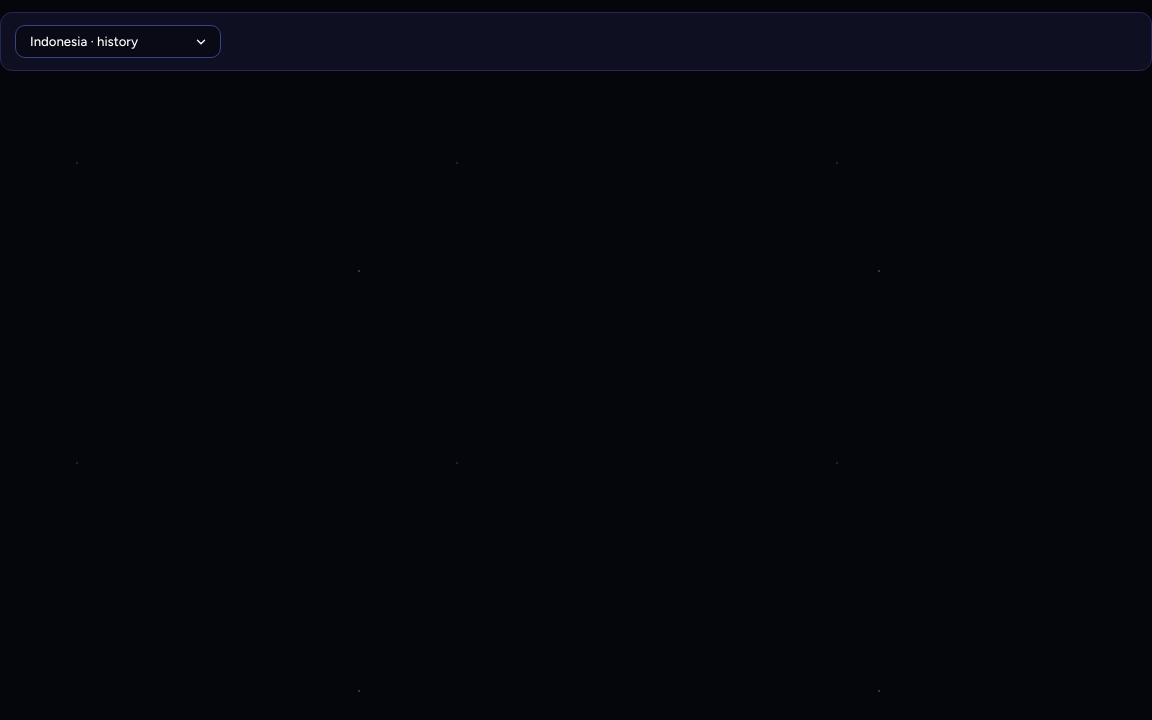
TimeControls › switches to the real global window and prevents unavailable corrections and dates
Select "Worldwide · last 3 months" in the dropdown named "Data coverage" at (118, 42), box x1=15 y1=25 x2=221 y2=58
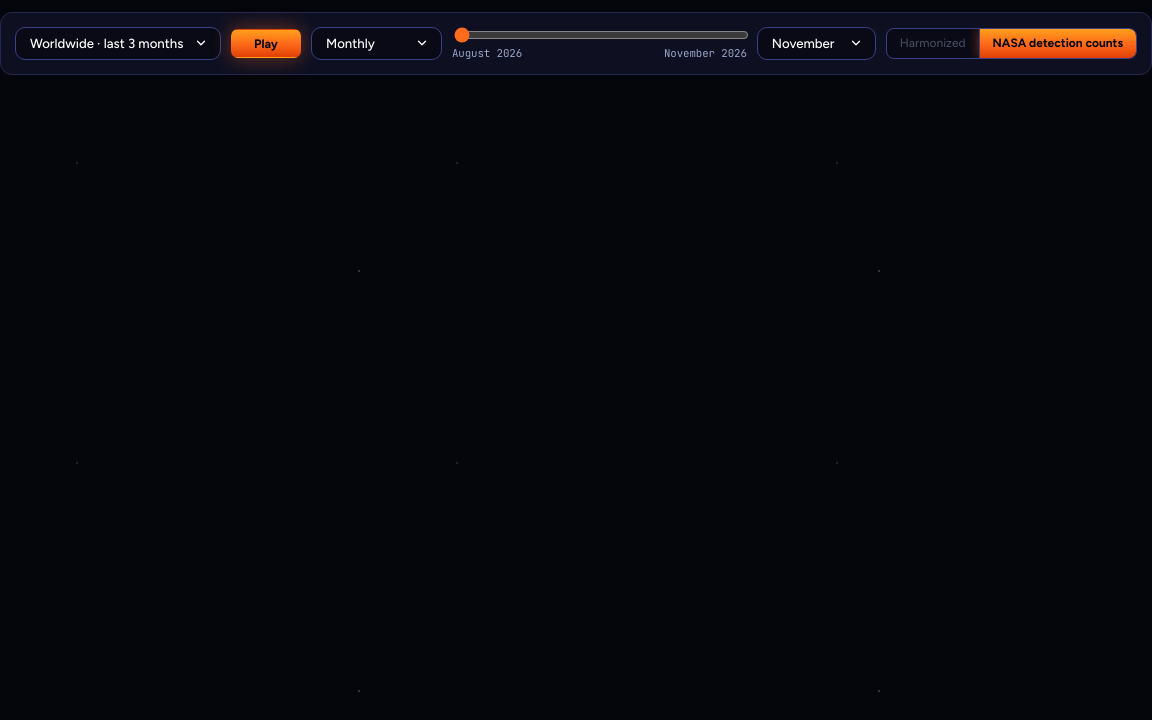
Expected: the button "Harmonized" is disabled, x1=887 y1=29 x2=979 y2=58
Expected: the text "August 2026" is shown, x1=452 y1=45 x2=522 y2=62
Expected: the text "November 2026" is shown, x1=664 y1=45 x2=747 y2=62
Select "August" in the 2nd dropdown named "Month" at (816, 43), box x1=757 y1=27 x2=876 y2=60
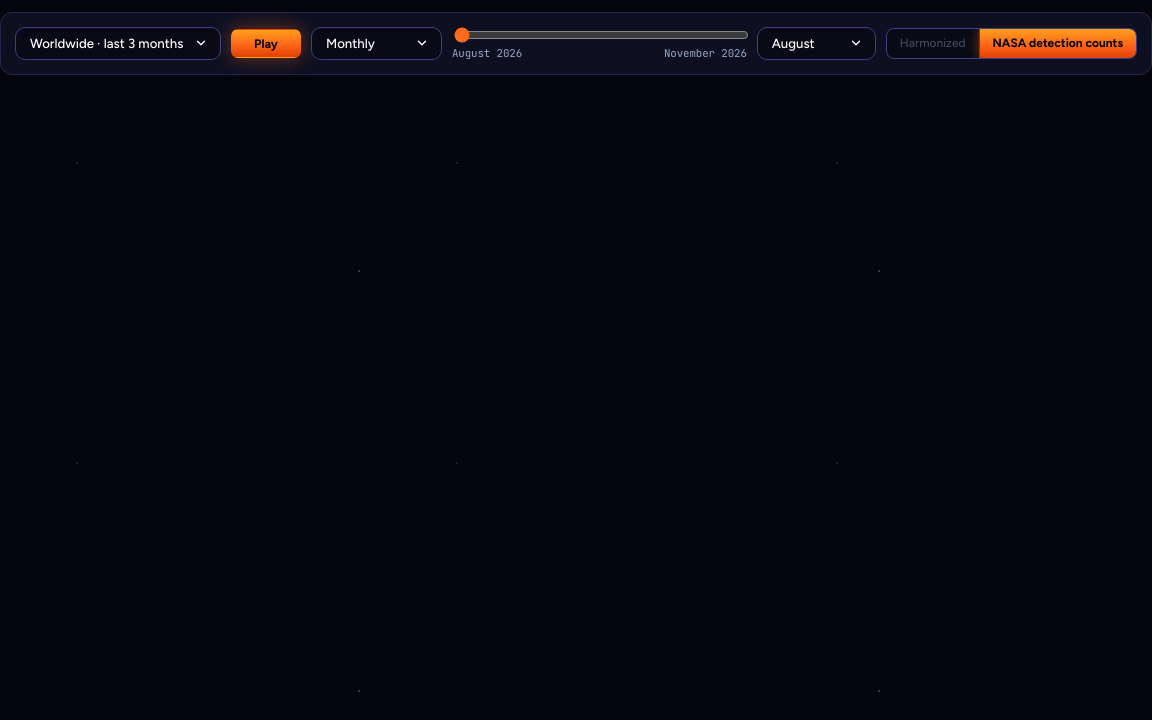
Select "Daily" in the 1st dropdown named "Playback interval" at (376, 43), box x1=311 y1=27 x2=442 y2=60
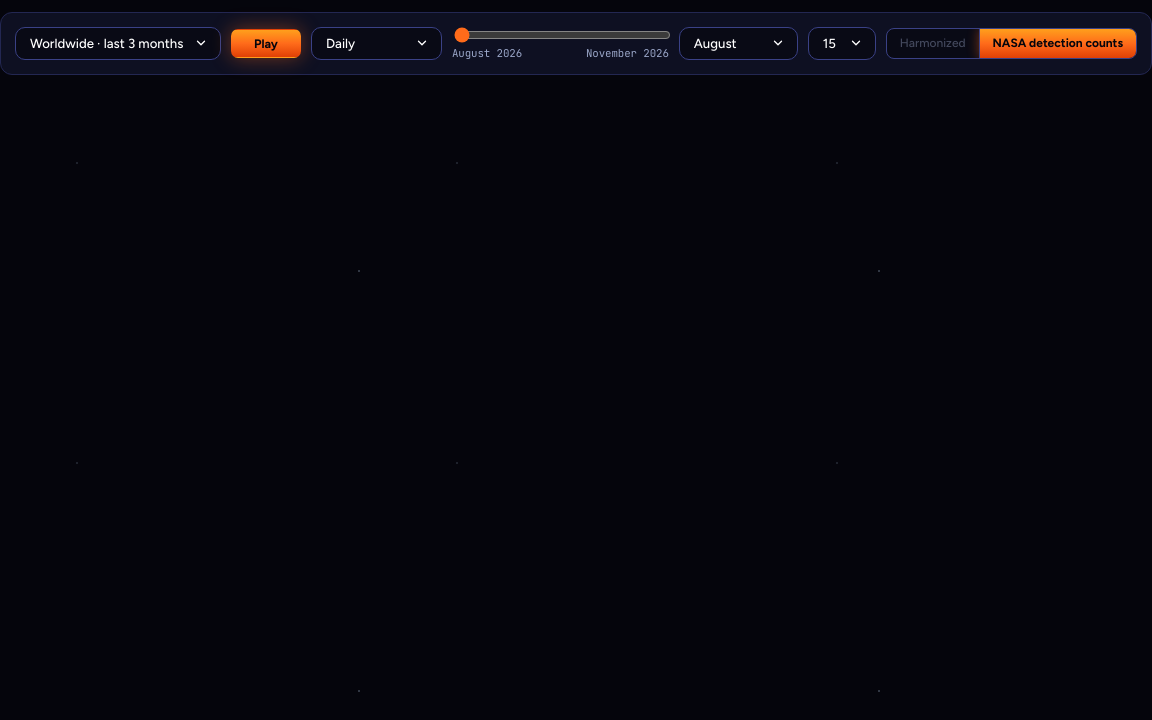
Select "Indonesia · history" in the dropdown named "Data coverage" at (118, 43), box x1=15 y1=27 x2=221 y2=60
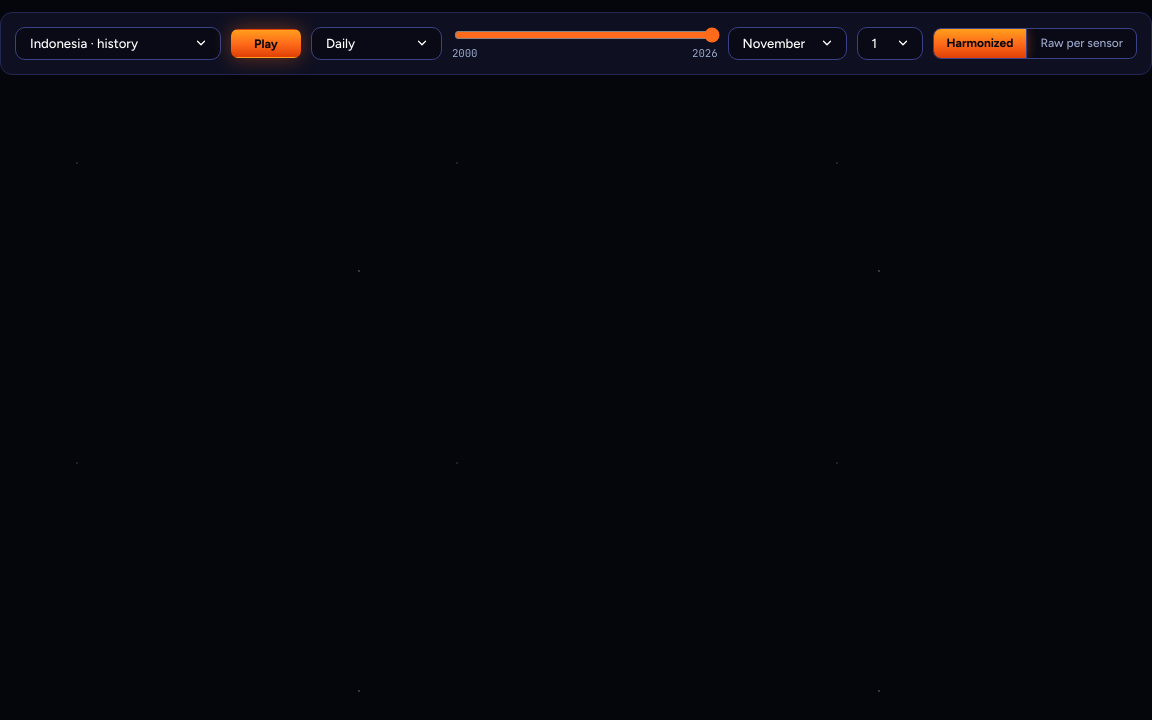
Expected: the button "Harmonized" is enabled, x1=934 y1=29 x2=1026 y2=58
